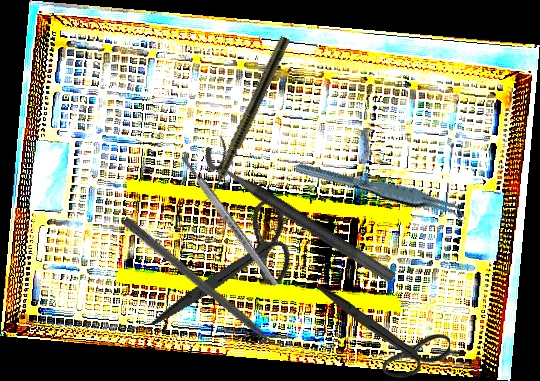Fixation Ring: (198, 132, 407, 286)
Handpiece: (200, 34, 292, 208)
Iris Scissors: (150, 175, 309, 364), (316, 282, 451, 381)
Pusher: (120, 215, 291, 363)
Scalpel Handle: (179, 154, 280, 288)
Tissue Forceps: (293, 142, 471, 240)
